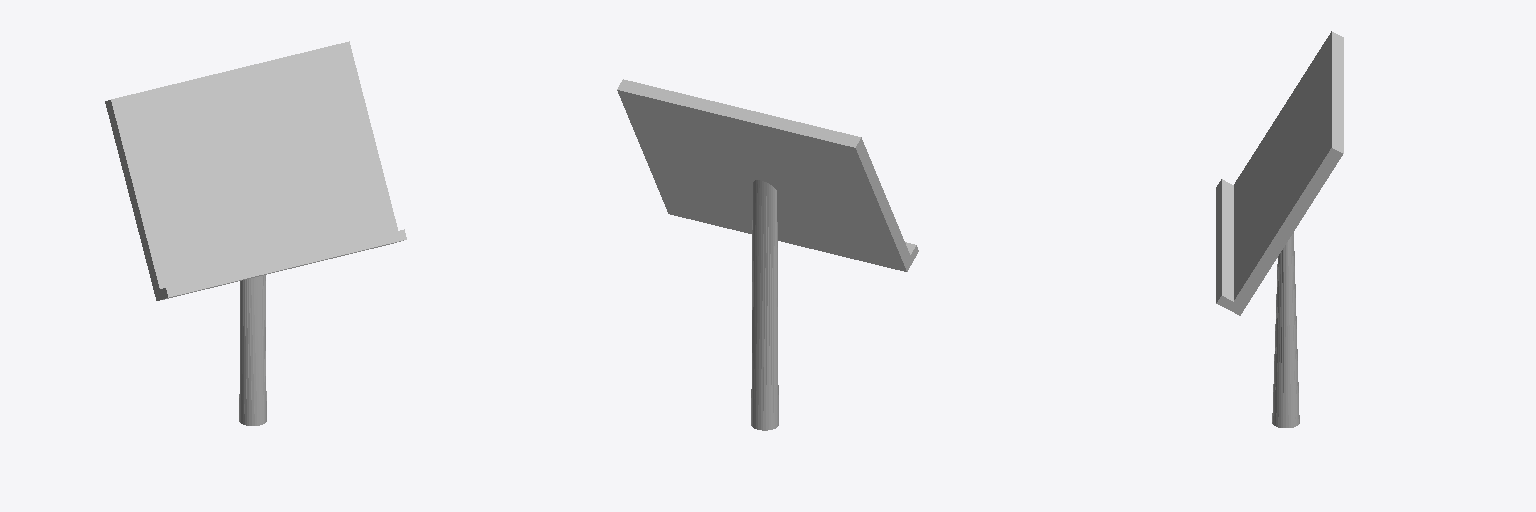
Rendered from pupitre.obj.
3 renders of one model, left to right at view 1: azimuth 30°, elevation 25°; view 2: azimuth 150°, elevation 25°; view 3: azimuth 270°, elevation 25°, orthographic.
Parts seen in each view (by area): view 1: Cylinder; view 2: Cylinder; view 3: Cylinder.
Part boxes in pixels (x1,y1,x2,y2): Cylinder: (105, 41, 406, 425); Cylinder: (617, 79, 918, 430); Cylinder: (1216, 31, 1343, 427).
Bounding box in the file's own units: 4 × 5.34 × 1.85.